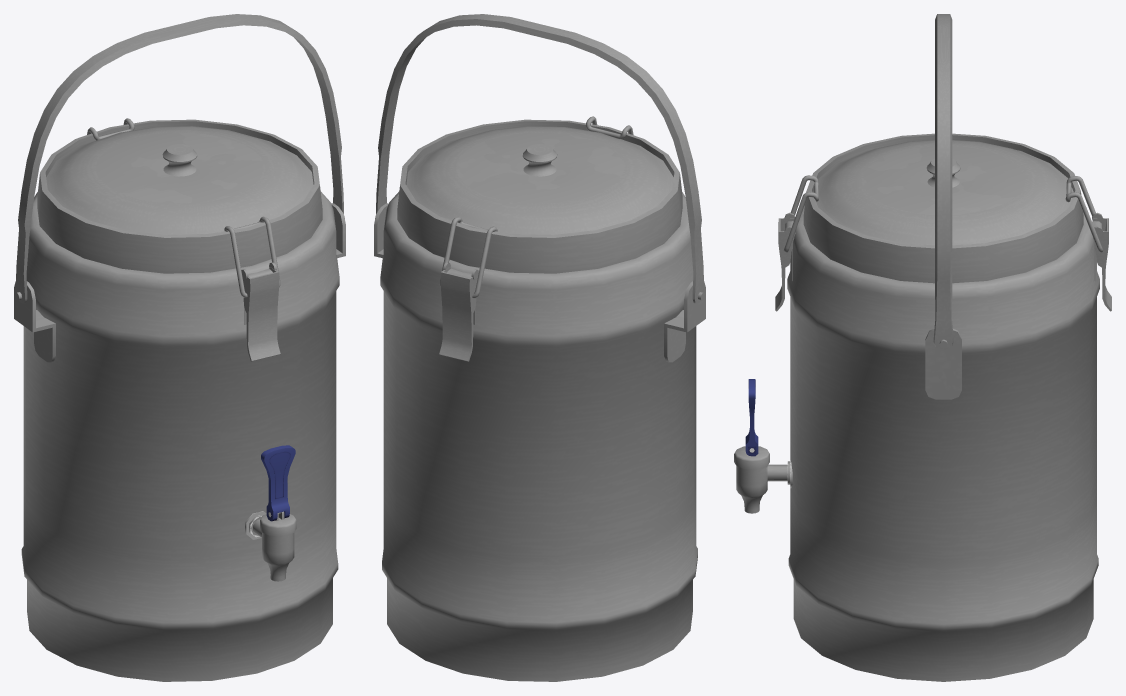
The model's file is 8L_stainlesswaterbottle.fbx.
The picture shows the model from 3 angles, left to right: view 1: azimuth 30°, elevation 25°; view 2: azimuth 150°, elevation 25°; view 3: azimuth 270°, elevation 25°; orthographic projection. The views are drawn at different scales.
Parts seen in each view (by area): view 1: 8L_waterbottle, 8L_cover, 8L_handle, coverlock_F, cocklever1, coverlock1_F; view 2: 8L_waterbottle, 8L_cover, 8L_handle, coverlock_B, coverlock1_B; view 3: 8L_waterbottle, 8L_cover, 8L_handle, coverlock_F, coverlock_B, coverlock1_B, coverlock1_F, cocklever1.
Boxes of the visible parts, x1,y1,x2,y2 form: 8L_waterbottle: (14,119,345,681); 8L_cover: (46,126,313,234); 8L_handle: (15,14,344,303); coverlock_F: (241,262,280,361); cocklever1: (261,445,295,521); coverlock1_F: (224,216,280,297); 8L_waterbottle: (374,119,705,681); 8L_cover: (406,126,673,234); 8L_handle: (375,14,704,303); coverlock_B: (439,262,478,361); coverlock1_B: (439,217,497,298); 8L_waterbottle: (734,133,1101,681); 8L_cover: (813,140,1073,245); 8L_handle: (933,14,953,349); coverlock_F: (775,212,795,311); coverlock_B: (1092,212,1111,311); coverlock1_B: (1065,176,1103,252); coverlock1_F: (783,175,818,252); cocklever1: (745,379,758,456).
Bounding box in the file's own units: 31.77 × 54.99 × 32.73.
Materials: 3 (3 with a texture image).
